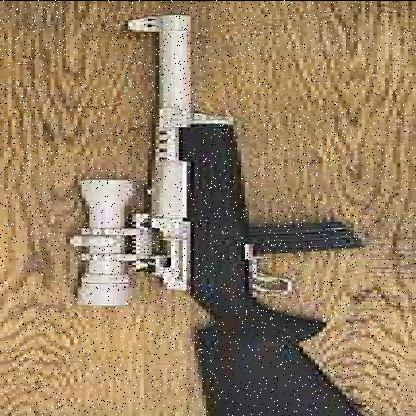rifle: (47, 5, 389, 416)
